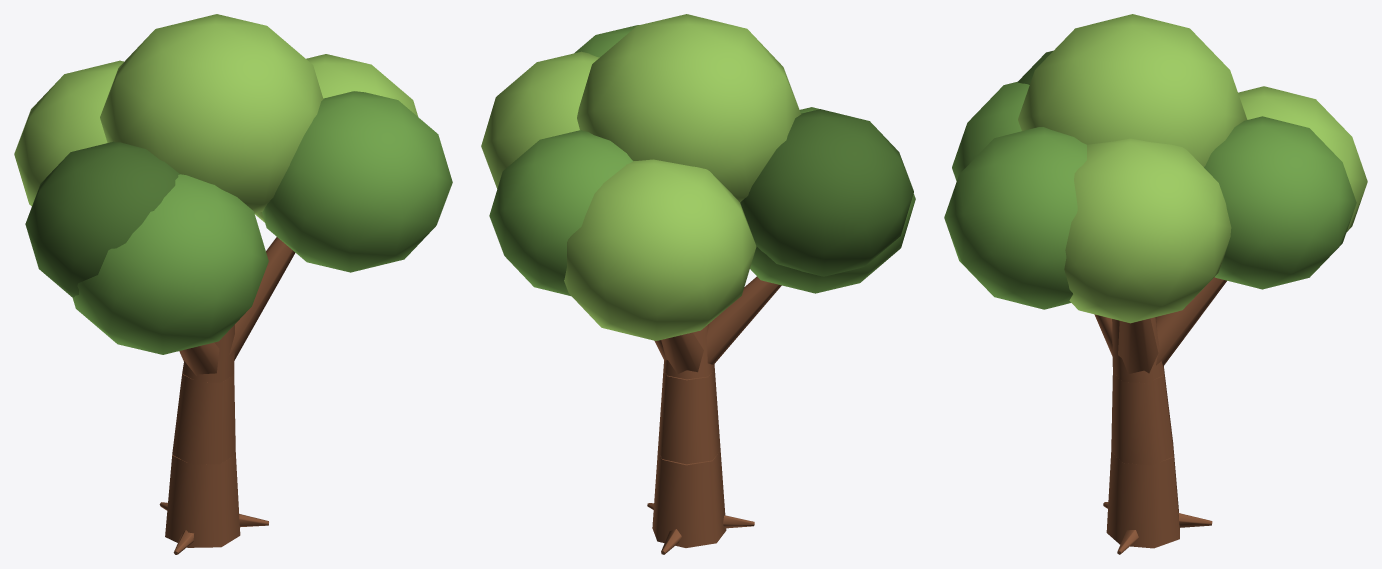
File: cloud-oak.glb
The picture shows the model from 3 angles, left to right: view 1: azimuth 30°, elevation 25°; view 2: azimuth 150°, elevation 25°; view 3: azimuth 270°, elevation 25°; orthographic projection.
Visible parts, largest first — view 1: Merged_foliage, Merged_foliage-light, Merged_bark, Merged_foliage-deep; view 2: Merged_foliage-light, Merged_foliage-deep, Merged_foliage, Merged_bark; view 3: Merged_foliage-light, Merged_foliage, Merged_bark.
Part boxes in pixels (x1,y1,x2,y2): Merged_foliage: (72,91,452,354); Merged_foliage-light: (14,14,418,222); Merged_bark: (159,237,295,554); Merged_foliage-deep: (25,141,179,297); Merged_foliage-light: (481,14,801,340); Merged_foliage-deep: (740,109,913,276); Merged_foliage: (489,25,915,295); Merged_bark: (647,276,781,554); Merged_foliage-light: (1018,14,1367,323); Merged_foliage: (944,81,1356,309); Merged_bark: (1094,277,1226,554).
Size of what is drawn, in the model's own units: 3.71 by 4.59 by 3.45.
